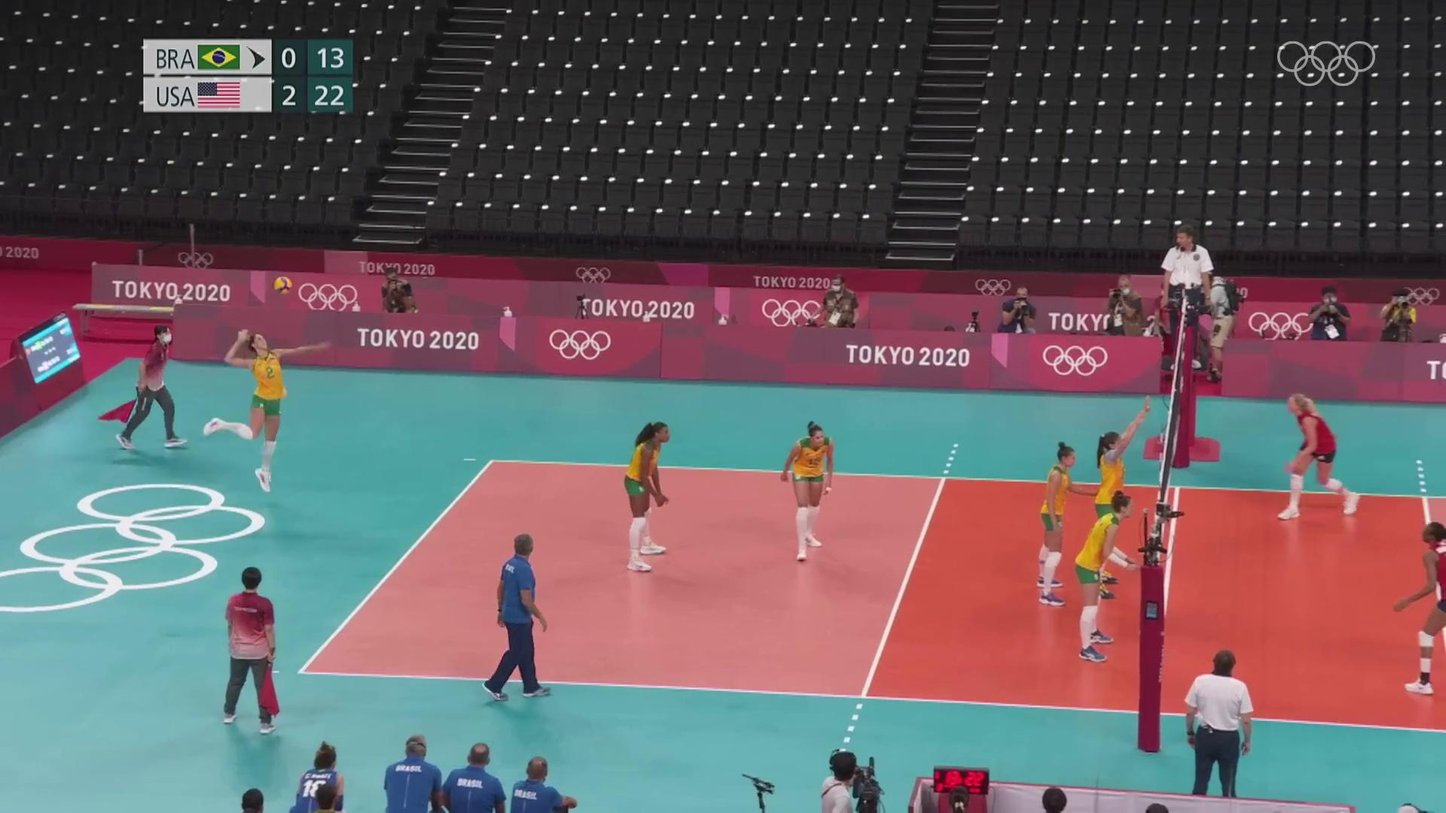player: (203, 326, 328, 493), (1075, 495, 1137, 663), (1094, 399, 1145, 598), (1282, 397, 1361, 521), (1393, 524, 1446, 697), (620, 420, 678, 571), (783, 423, 840, 560), (1038, 440, 1083, 608)
refree: (1183, 651, 1256, 803), (220, 568, 283, 729), (116, 323, 190, 452), (1162, 226, 1213, 364)
